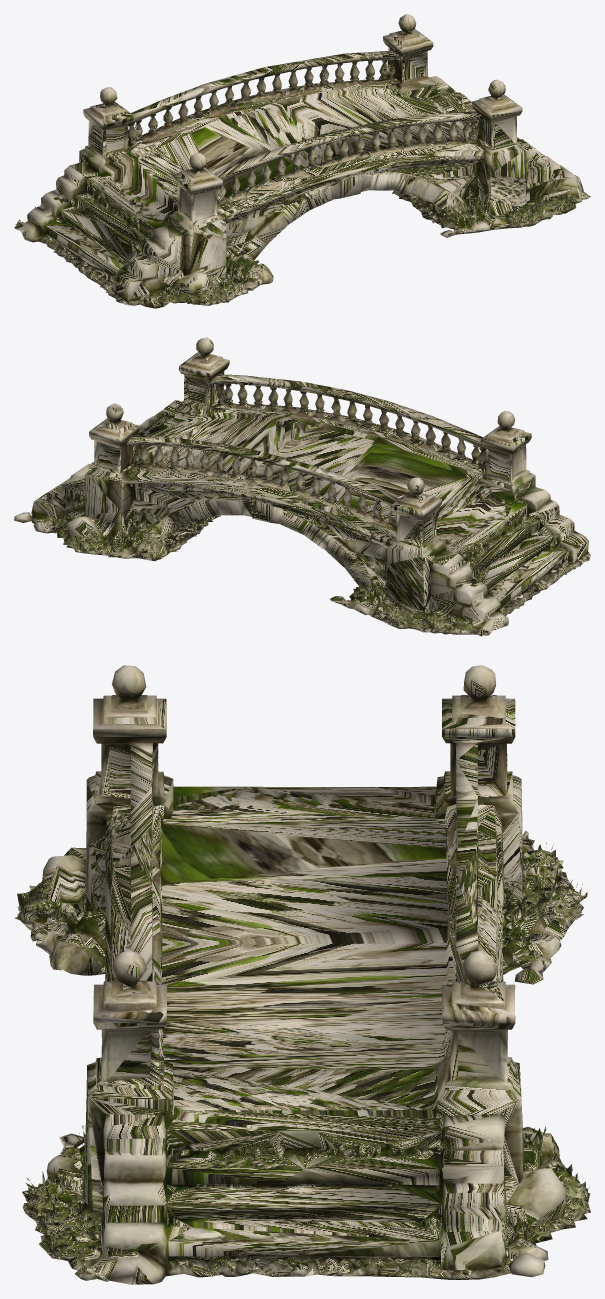
Rendered from Stone_Serenity_Bridge.glb.
The picture shows the model from 3 angles, top to bottom: view 1: azimuth 30°, elevation 25°; view 2: azimuth 150°, elevation 25°; view 3: azimuth 270°, elevation 25°; orthographic projection. The views are drawn at different scales.
Parts seen in each view (by area): view 1: Stone_Serenity_Bridge; view 2: Stone_Serenity_Bridge; view 3: Stone_Serenity_Bridge.
Part boxes in pixels (x1,y1,x2,y2): Stone_Serenity_Bridge: [14, 14, 590, 308]; Stone_Serenity_Bridge: [14, 337, 590, 636]; Stone_Serenity_Bridge: [14, 665, 590, 1284].
Size of the model in its own units: 1.9 by 0.4925 by 1.02.
Materials: 1 (1 with a texture image).
